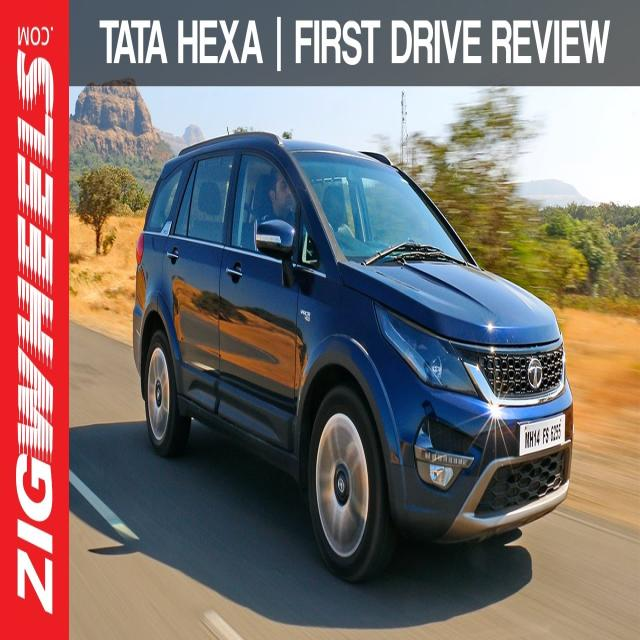car: (133, 126, 579, 566)
